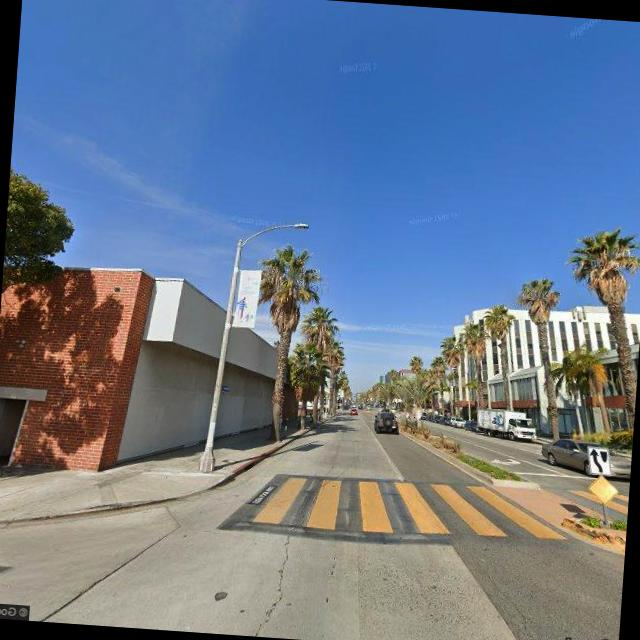pothole: (240, 524, 298, 636)
